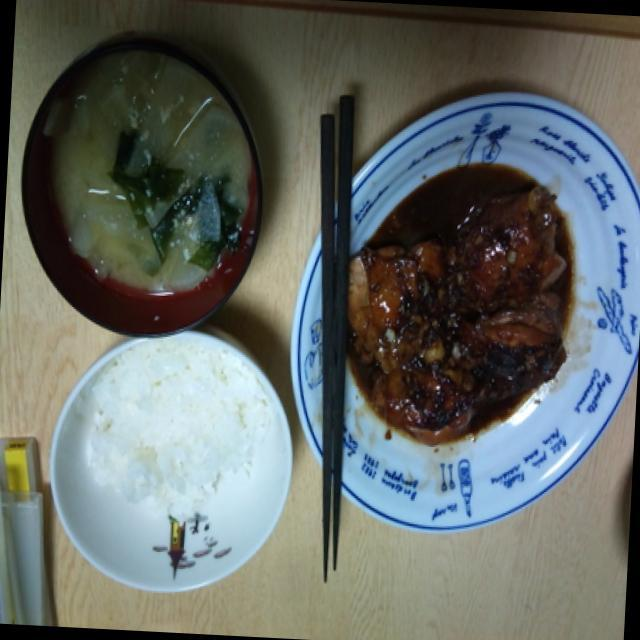Rice: (97, 338, 255, 520)
